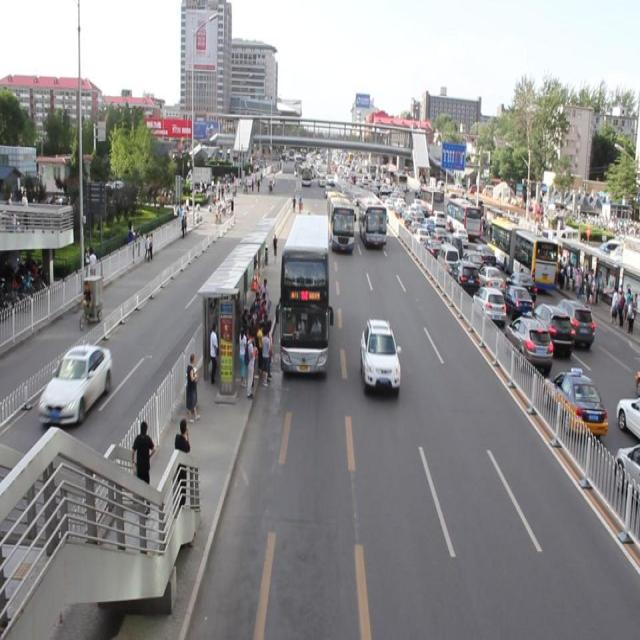car: (359, 316, 399, 396)
van: (280, 212, 326, 372), (326, 192, 353, 252), (357, 194, 386, 248)
